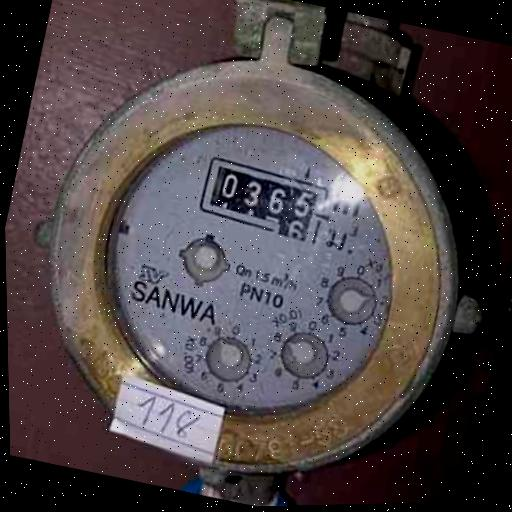0: (208, 165, 247, 211)
3: (235, 171, 271, 218)
5: (277, 183, 321, 243)
6: (257, 178, 293, 224)
border_water_meter_number: (193, 151, 334, 248)
